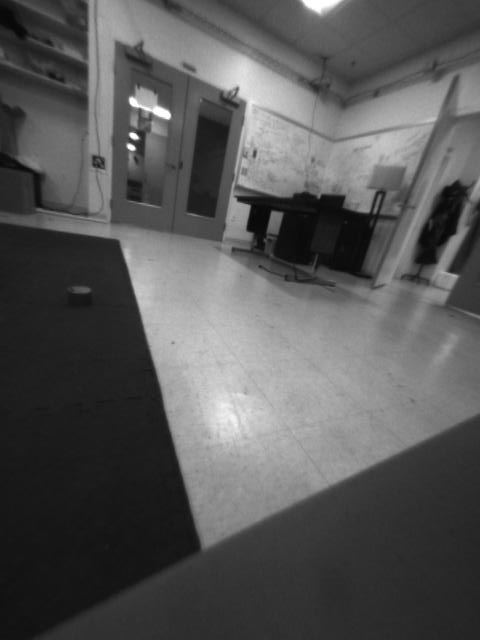dogtoy: (55, 273, 103, 308)
